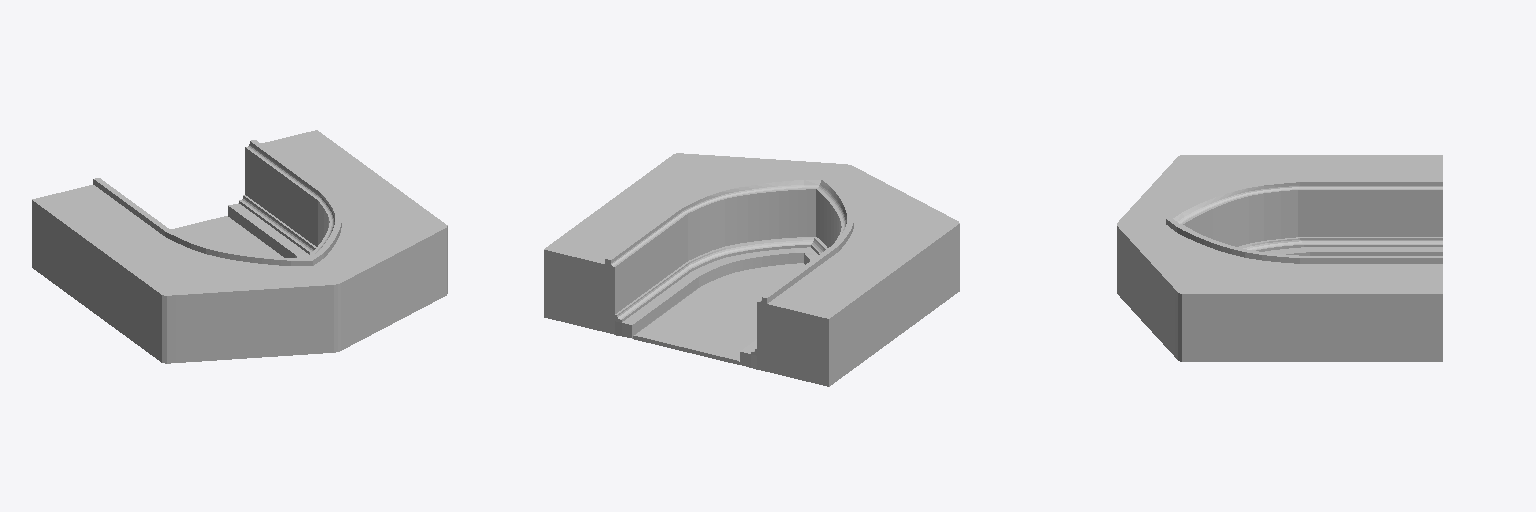
Rendered from church.obj.
The picture shows the model from 3 angles: view 1: azimuth 30°, elevation 25°; view 2: azimuth 150°, elevation 25°; view 3: azimuth 270°, elevation 25°; orthographic projection.
Visible parts, largest first — view 1: ContourPierre.003_Plane.016; view 2: ContourPierre.003_Plane.016; view 3: ContourPierre.003_Plane.016.
Boxes of the visible parts, box(x1,y1,x2,y2) form: ContourPierre.003_Plane.016: box(32, 130, 447, 363); ContourPierre.003_Plane.016: box(544, 153, 959, 386); ContourPierre.003_Plane.016: box(1117, 155, 1442, 361).
Bounding box in the file's own units: 1.1 × 0.2732 × 1.09.